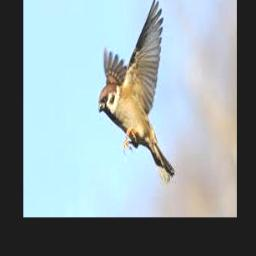Sparrow: (98, 0, 174, 185)
